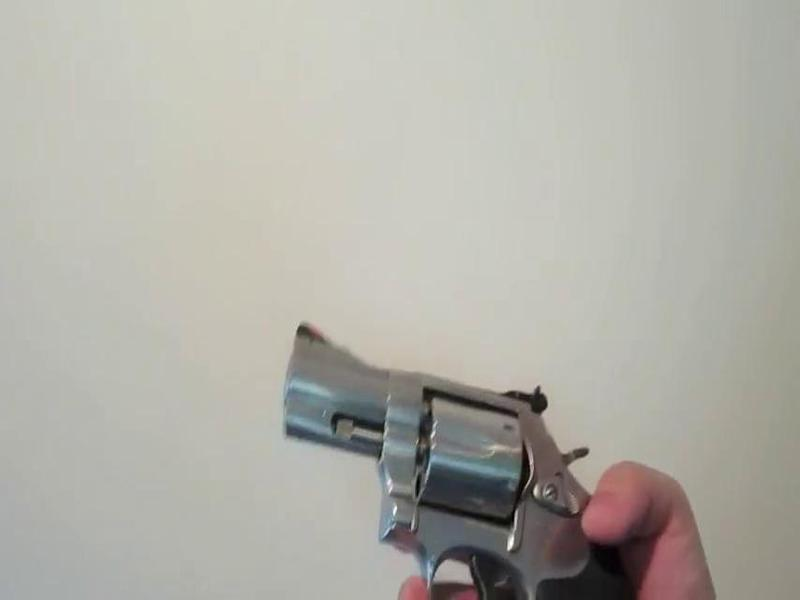Revolver: (252, 304, 615, 594)
